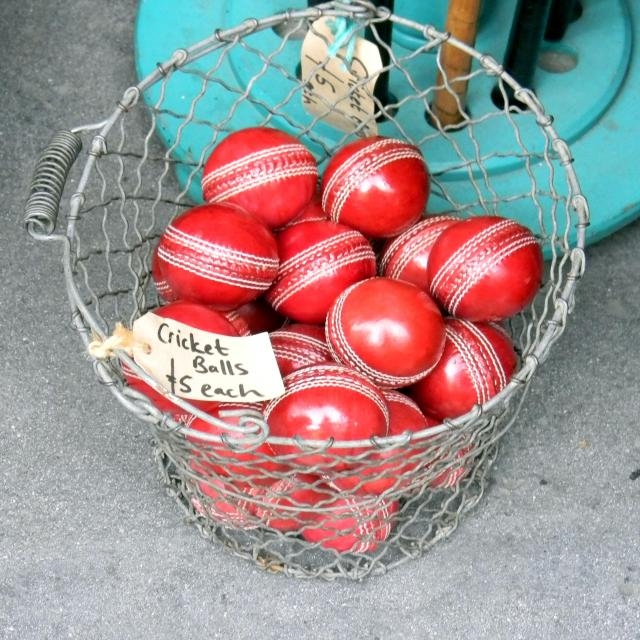Cricket ball: (322, 269, 446, 386), (147, 203, 285, 308), (316, 129, 433, 234)
